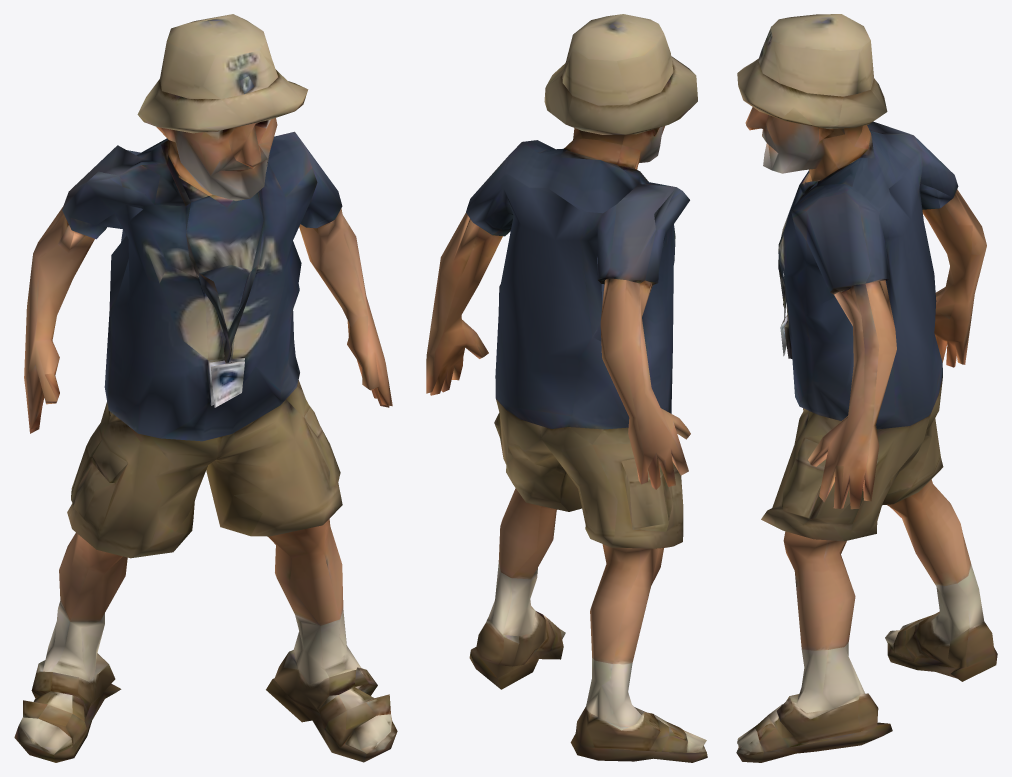
Rendered from fan12.glb.
3 renders of one model, left to right at view 1: azimuth 30°, elevation 25°; view 2: azimuth 150°, elevation 25°; view 3: azimuth 270°, elevation 25°, orthographic. The views are drawn at different scales.
Parts seen in each view (by area): view 1: material_proxy; view 2: material_proxy; view 3: material_proxy.
Boxes of the visible parts, x1,y1,x2,y2 form: material_proxy: (14, 14, 397, 762); material_proxy: (426, 14, 707, 762); material_proxy: (736, 14, 997, 762).
Size of the model in its own units: 0.4867 by 1.04 by 0.3558.
1 material, 1 textured.
